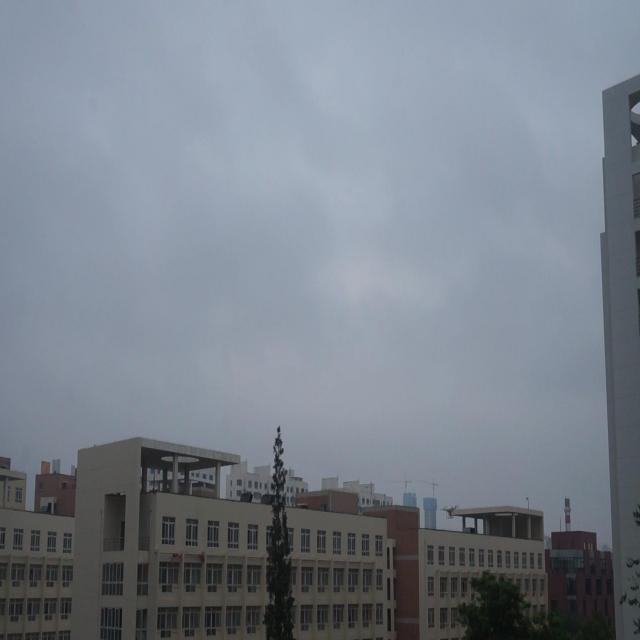UAV: (440, 504, 460, 519)
